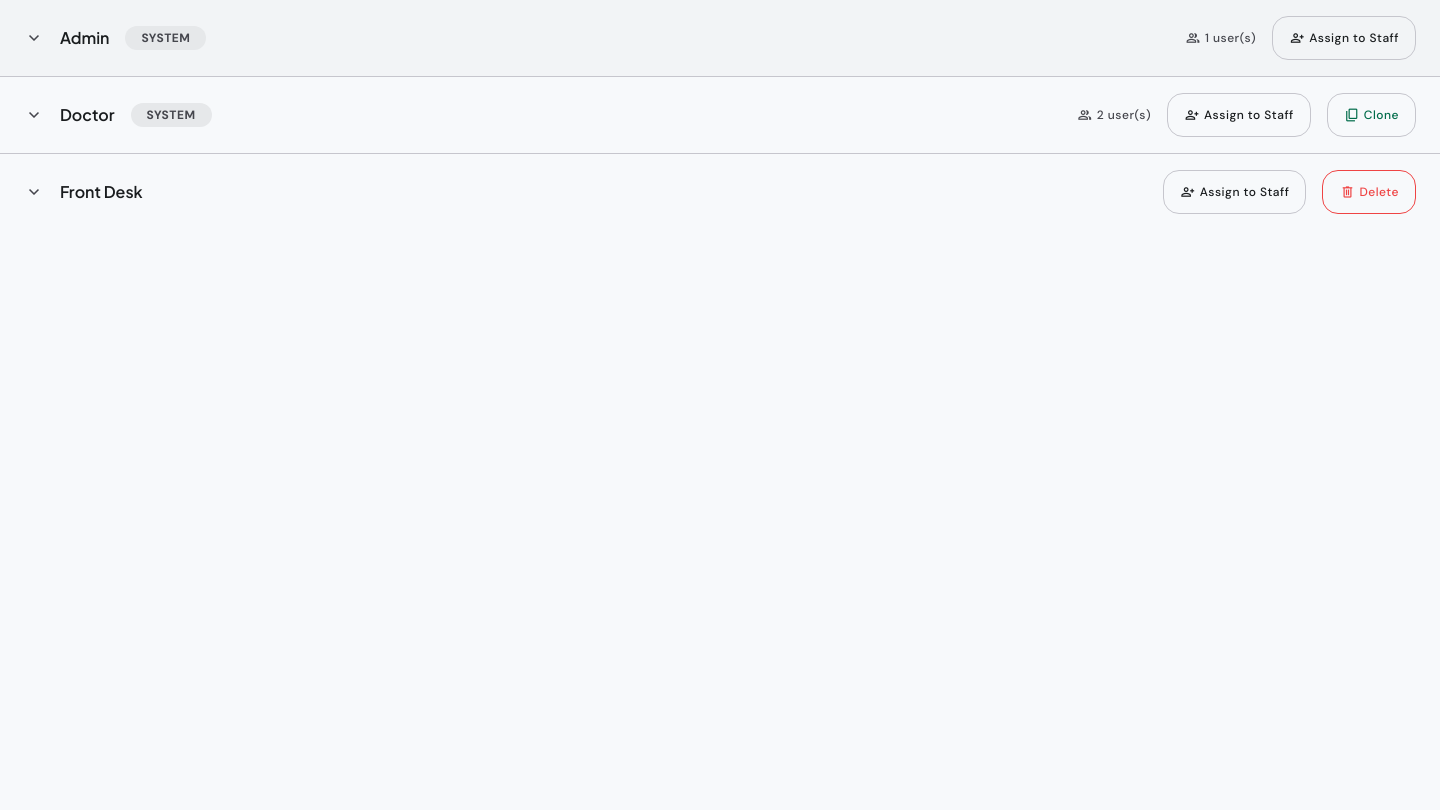
it: RoleList — DeleteDialog on Dialog (MODAL-6) › AC-6: a 409 in-use response keeps the error message in the dialog body (title-bar red styling dropped)
This screenshot has width=1440, height=810.
Click the button titled "Delete this role". click: (1369, 192)
box: [1322,170,1416,214]
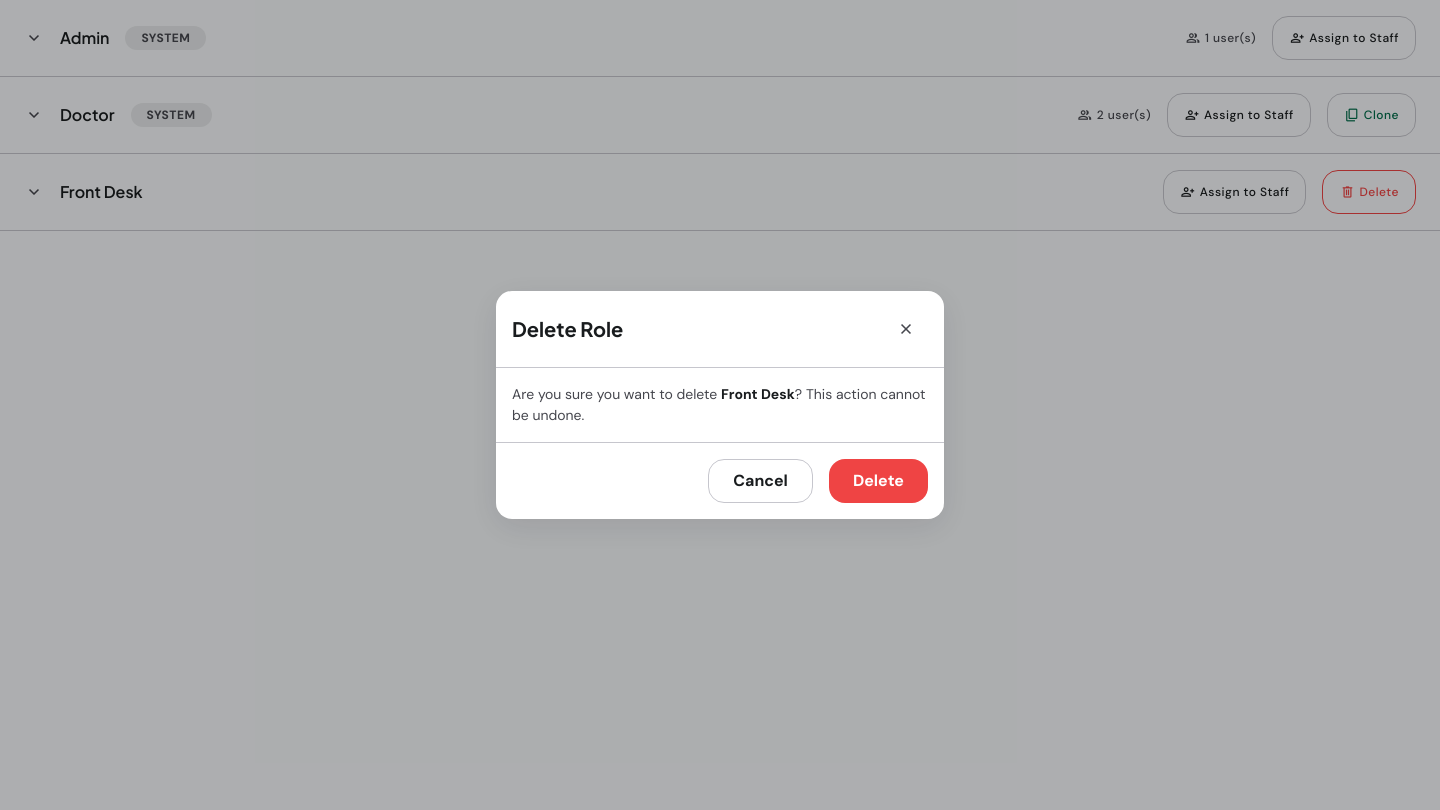
Click the button "Delete". click: (878, 481)
box: [829,459,928,503]
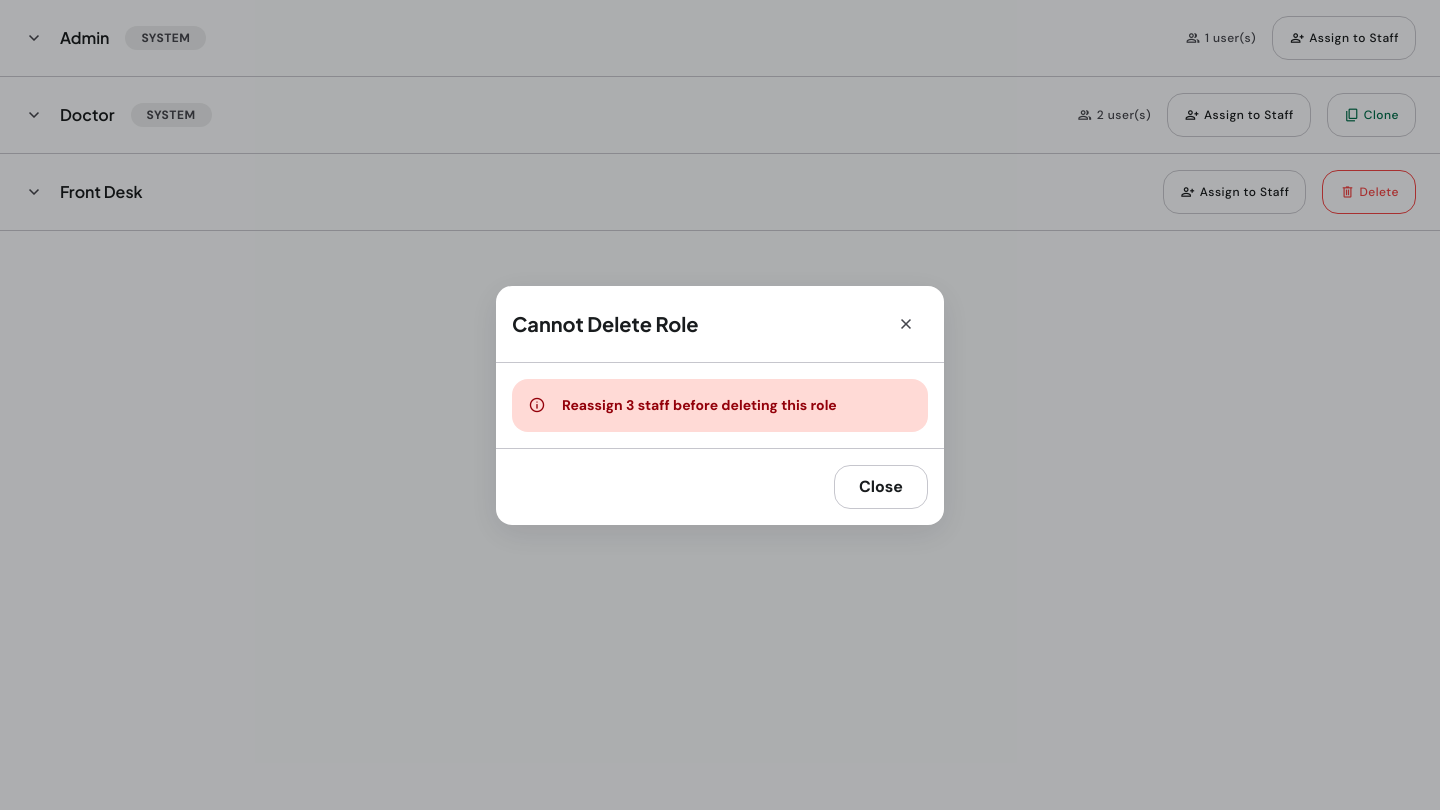
Now the heading "Cannot Delete Role" is shown, box [512,310,698,336]
Now the text "Reassign 3 staff before deleting this role" is shown, box [562,394,837,416]
